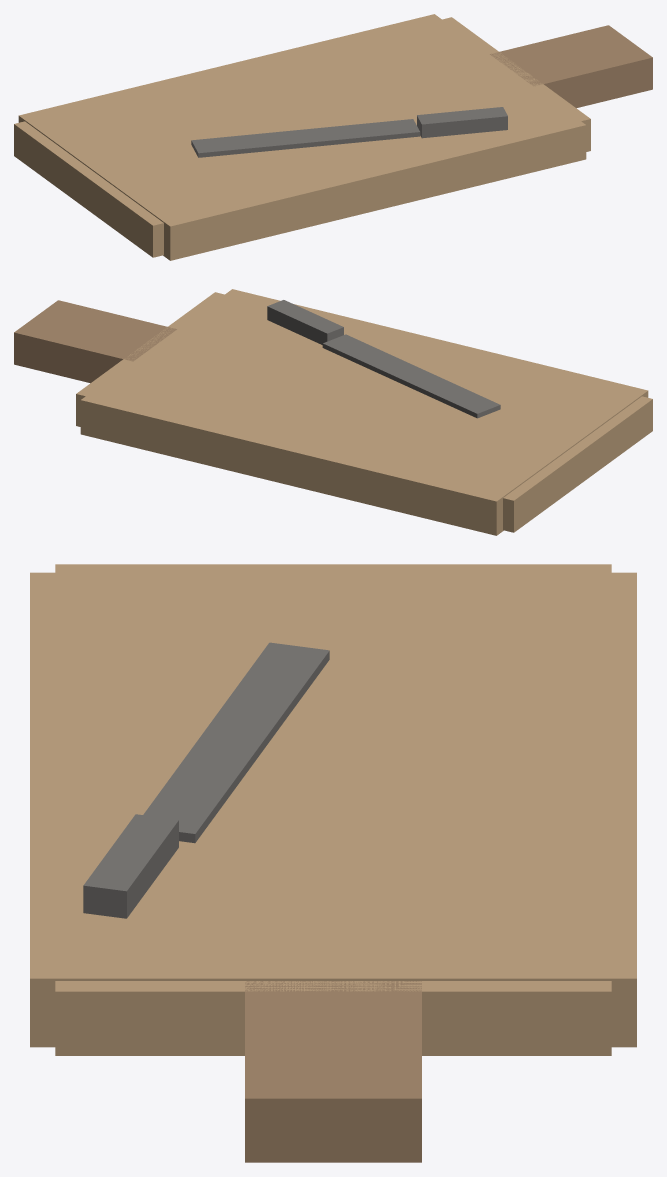
The model's file is prop-cutting-board.fbx.
3 views of the same model, one above another, from view 1: azimuth 30°, elevation 25°; view 2: azimuth 150°, elevation 25°; view 3: azimuth 270°, elevation 25° (orthographic). The views are drawn at different scales.
Parts seen in each view (by area): view 1: prop-cutting-board; view 2: prop-cutting-board; view 3: prop-cutting-board.
Part boxes in pixels (x1=…): prop-cutting-board: x1=14, y1=14, x2=652, y2=260; prop-cutting-board: x1=14, y1=289, x2=652, y2=535; prop-cutting-board: x1=30, y1=564, x2=636, y2=1162.
Bounding box in the file's own units: 0.5 × 0.043 × 0.24.
